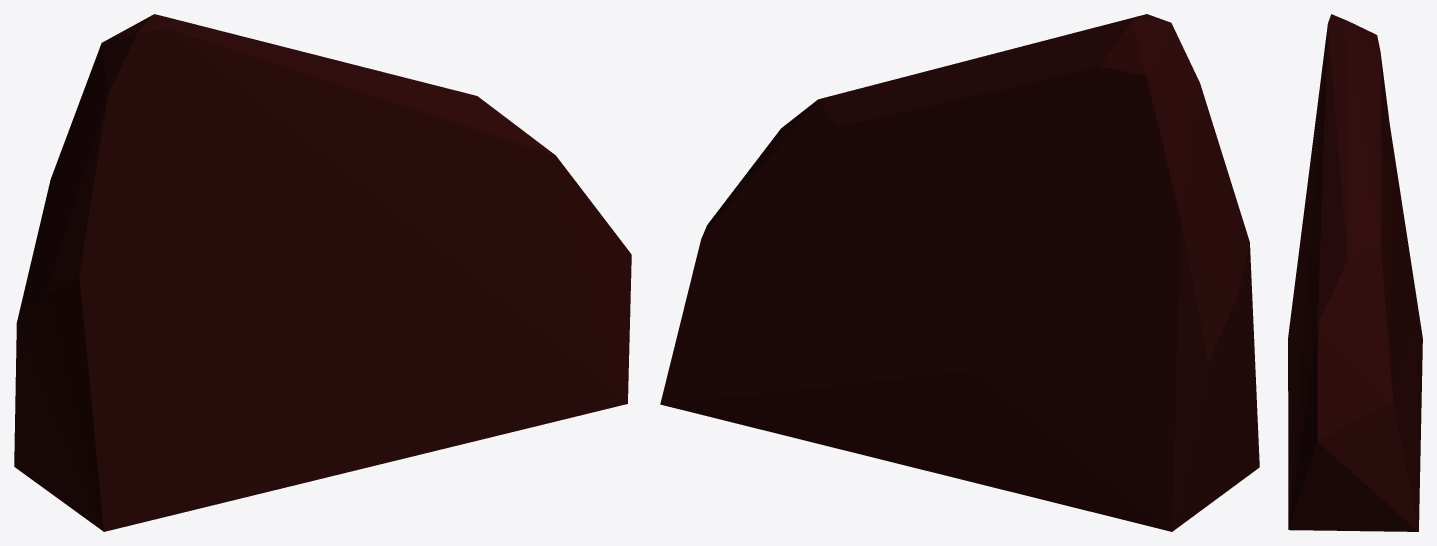
The model's file is UCX_Castle_Wall_D.fbx.
3 views of the same model, side by side, from view 1: azimuth 30°, elevation 25°; view 2: azimuth 150°, elevation 25°; view 3: azimuth 270°, elevation 25° (orthographic). The views are drawn at different scales.
Visible parts, largest first — view 1: UCX_Castle_Wall_D; view 2: UCX_Castle_Wall_D; view 3: UCX_Castle_Wall_D.
Boxes of the visible parts, x1=… form: UCX_Castle_Wall_D: x1=14, y1=14, x2=631, y2=531; UCX_Castle_Wall_D: x1=660, y1=14, x2=1259, y2=531; UCX_Castle_Wall_D: x1=1288, y1=14, x2=1422, y2=531.
Bounding box in the file's own units: 1070 × 844 × 294.
